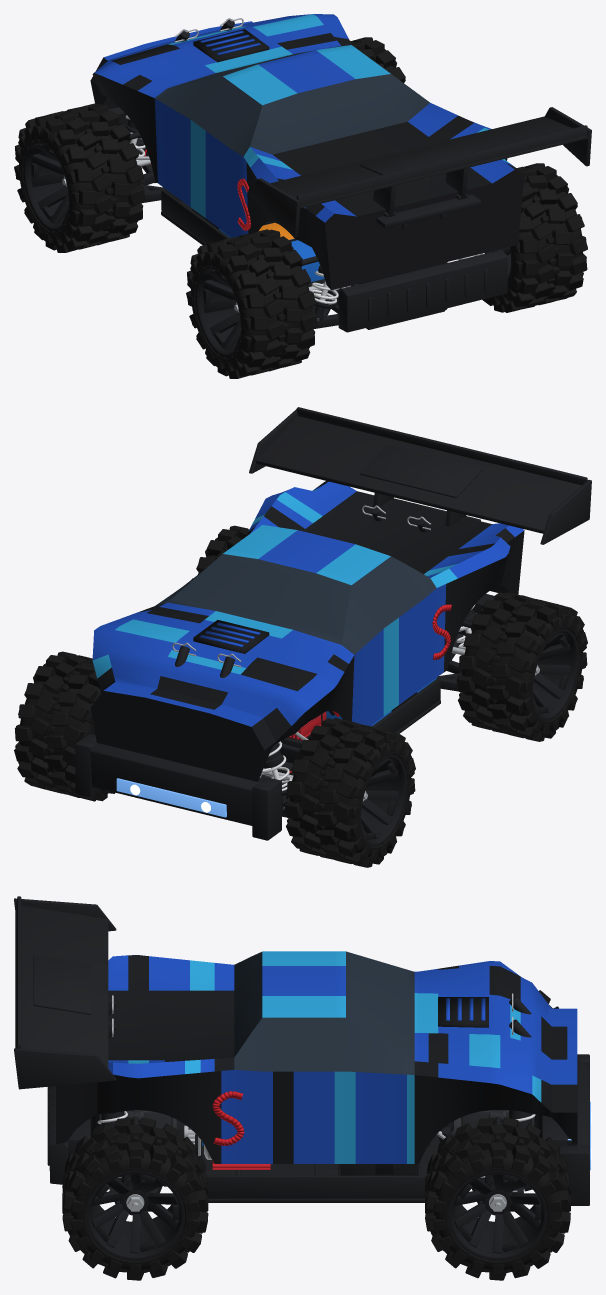
File: sevor.glb
3 views of the same model, one above another, from view 1: azimuth 30°, elevation 25°; view 2: azimuth 150°, elevation 25°; view 3: azimuth 270°, elevation 25° (orthographic). The views are drawn at different scales.
Parts seen in each view (by area): view 1: BODY, D5425_FL, D5425_RL, WING, D5425_RR, P2514, P2555_FL, P2555_RL, P2501, WING_MOUNT, D5425_FR, BATTERY (+1 smaller); view 2: BODY, WING, D5425_RL, D5425_FL, D5425_FR, P2503, P2555_FL, P2555_RL, P2501, LED_BAR, D5425_RR, ESC; view 3: BODY, WING, D5425_RR, D5425_FR, P2501, P2555_RR, P2555_FR, P2503, P2514, SERVO, GEARBOX_F, GEARBOX_R.
Part boxes in pixels (x1=…): BODY: x1=90, y1=14, x2=524, y2=290; D5425_FL: x1=14, y1=103, x2=145, y2=252; D5425_RL: x1=186, y1=229, x2=317, y2=378; WING: x1=249, y1=107, x2=591, y2=237; D5425_RR: x1=482, y1=163, x2=587, y2=312; P2514: x1=338, y1=249, x2=507, y2=332; P2555_FL: x1=22, y1=140, x2=69, y2=232; P2555_RL: x1=194, y1=266, x2=241, y2=358; P2501: x1=161, y1=187, x2=445, y2=329; WING_MOUNT: x1=376, y1=194, x2=480, y2=229; D5425_FR: x1=350, y1=37, x2=405, y2=82; BATTERY: x1=219, y1=222, x2=324, y2=281; BODY: x1=90, y1=481, x2=524, y2=781; WING: x1=249, y1=407, x2=591, y2=544; D5425_RL: x1=456, y1=592, x2=587, y2=741; D5425_FL: x1=284, y1=718, x2=415, y2=867; D5425_FR: x1=14, y1=651, x2=115, y2=801; P2503: x1=75, y1=734, x2=281, y2=840; P2555_FL: x1=360, y1=754, x2=407, y2=847; P2555_RL: x1=532, y1=628, x2=579, y2=721; P2501: x1=277, y1=676, x2=440, y2=780; LED_BAR: x1=116, y1=778, x2=226, y2=817; D5425_RR: x1=191, y1=525, x2=249, y2=579; ESC: x1=280, y1=711, x2=326, y2=763; BODY: x1=56, y1=951, x2=577, y2=1163; WING: x1=14, y1=896, x2=116, y2=1089; D5425_RR: x1=62, y1=1117, x2=208, y2=1280; D5425_FR: x1=424, y1=1117, x2=570, y2=1280; P2501: x1=201, y1=1135, x2=442, y2=1202; P2555_RR: x1=85, y1=1170, x2=185, y2=1261; P2555_FR: x1=447, y1=1170, x2=547, y2=1261; P2503: x1=524, y1=1054, x2=589, y2=1205; P2514: x1=47, y1=1086, x2=108, y2=1189; SERVO: x1=340, y1=1143, x2=430, y2=1175; GEARBOX_F: x1=450, y1=1110, x2=534, y2=1179; GEARBOX_R: x1=99, y1=1110, x2=176, y2=1186.
Size of the model in its own units: 0.2106 by 0.1268 by 0.2949.
